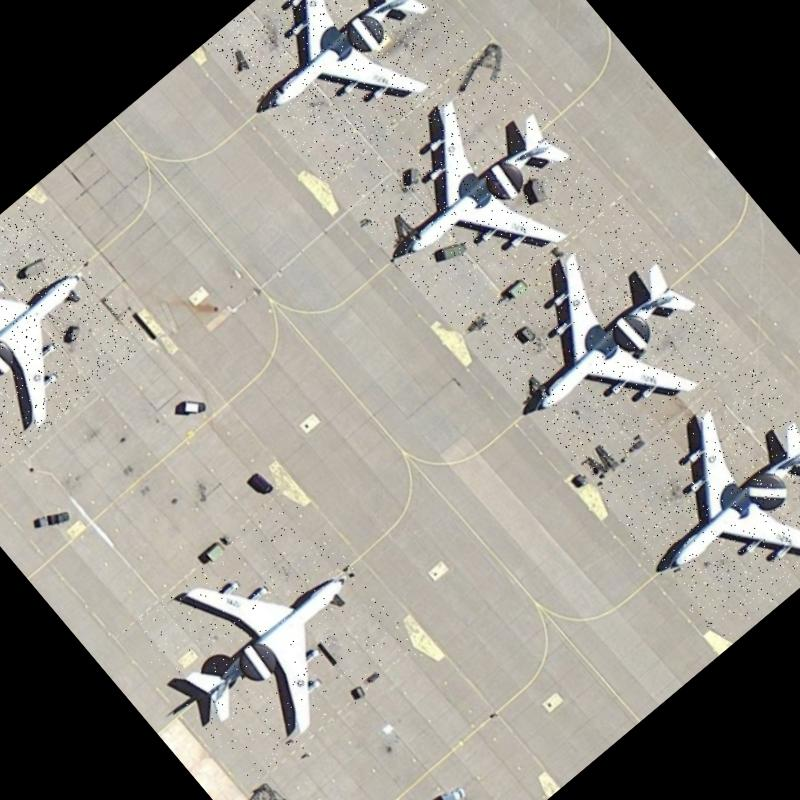A7: (123, 490, 422, 788), (331, 48, 619, 335), (464, 200, 748, 484), (592, 358, 800, 644), (205, 0, 483, 188), (0, 194, 150, 482)
